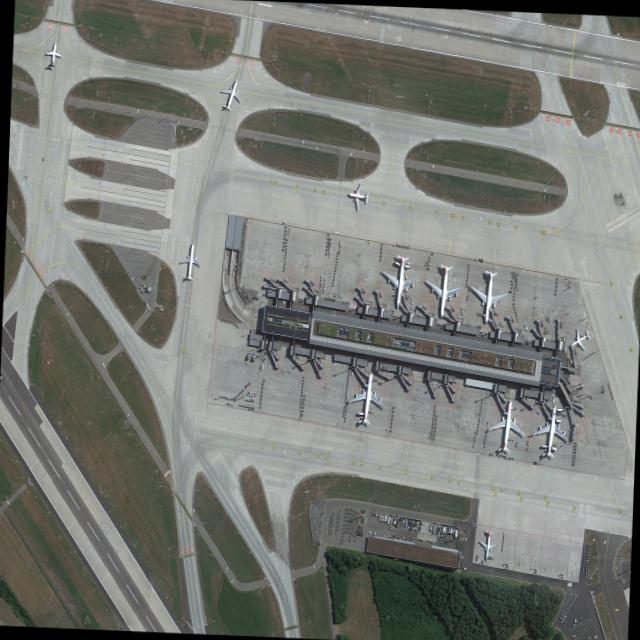plane: (375, 247, 420, 318), (464, 263, 511, 327), (342, 366, 388, 430), (481, 393, 529, 454), (421, 257, 464, 321), (527, 399, 572, 460), (212, 70, 248, 117), (175, 238, 203, 280), (564, 319, 594, 357), (344, 178, 370, 213), (475, 526, 498, 561), (40, 37, 62, 67)
small-vehicle: (535, 410, 539, 414), (568, 357, 571, 362), (460, 306, 464, 309), (537, 404, 541, 407), (562, 335, 564, 340), (404, 274, 406, 279), (396, 272, 398, 277), (550, 391, 552, 396), (318, 296, 321, 299), (410, 299, 412, 303), (469, 320, 471, 324), (231, 271, 233, 275), (231, 257, 233, 261), (350, 369, 352, 373), (551, 392, 553, 396), (426, 525, 428, 529), (416, 519, 418, 523), (415, 523, 417, 527), (406, 525, 408, 529), (368, 529, 370, 533), (409, 296, 412, 298), (408, 307, 411, 309), (499, 319, 502, 321), (498, 321, 501, 323), (551, 388, 554, 390), (459, 555, 462, 557), (422, 521, 424, 524), (404, 522, 406, 525), (404, 525, 405, 530), (551, 397, 552, 401), (373, 530, 374, 534), (409, 305, 412, 306), (421, 520, 422, 523), (405, 519, 406, 522)
